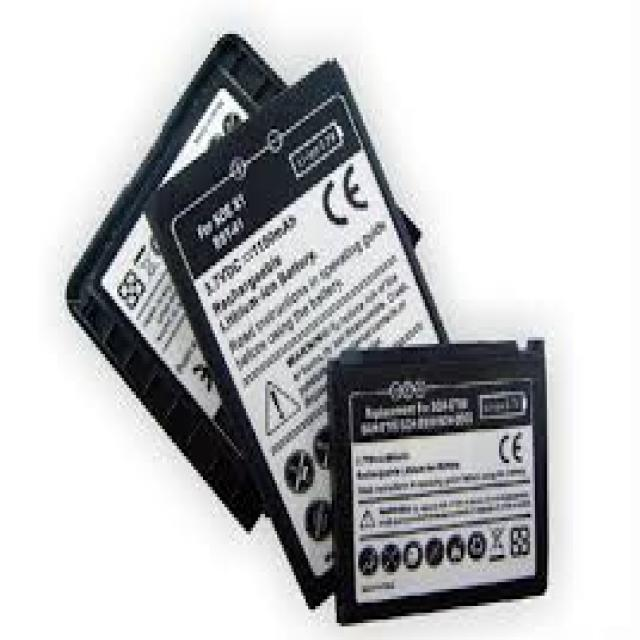non-organic waste: (68, 24, 420, 534), (147, 59, 452, 610), (328, 336, 552, 626)
